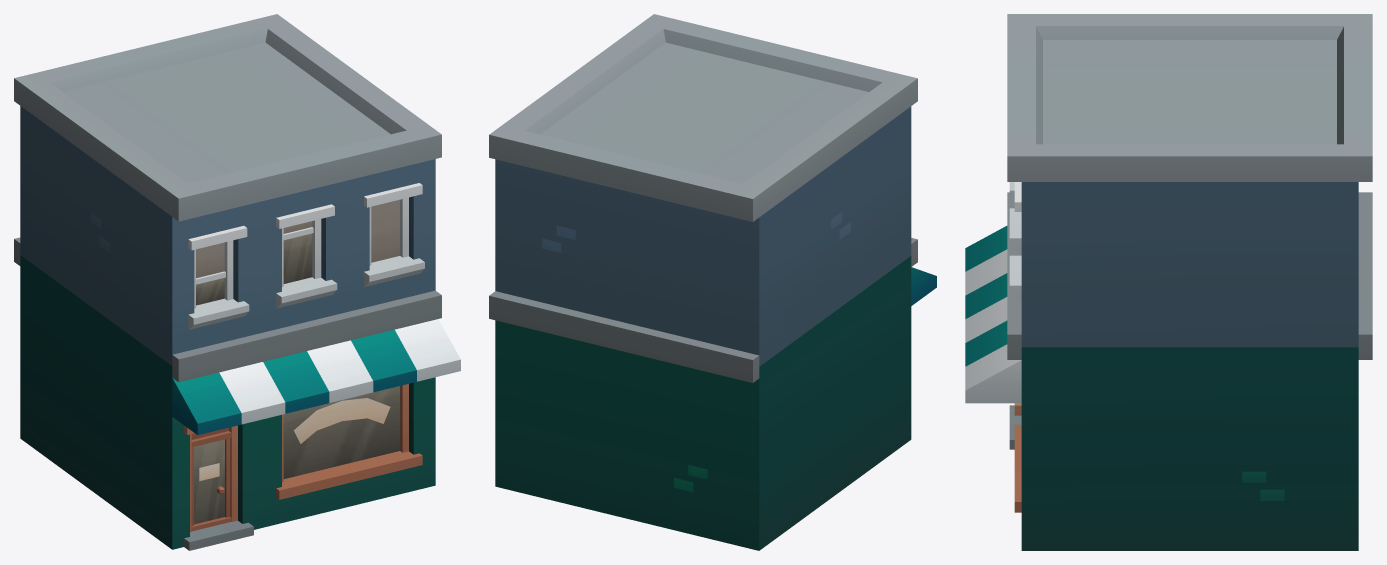
File: kay-predio-a.gltf
3 renders of one model, left to right at view 1: azimuth 30°, elevation 25°; view 2: azimuth 150°, elevation 25°; view 3: azimuth 270°, elevation 25°, orthographic. The views are drawn at different scales.
Visible parts, largest first — view 1: building_A_withoutBase; view 2: building_A_withoutBase; view 3: building_A_withoutBase.
Part boxes in pixels (bbox=[...]): building_A_withoutBase: bbox=[14, 14, 460, 550]; building_A_withoutBase: bbox=[489, 14, 936, 550]; building_A_withoutBase: bbox=[965, 14, 1372, 550].
Bounding box in the file's own units: 6.03 × 7.75 × 7.25.
Materials: 1 (1 with a texture image).
